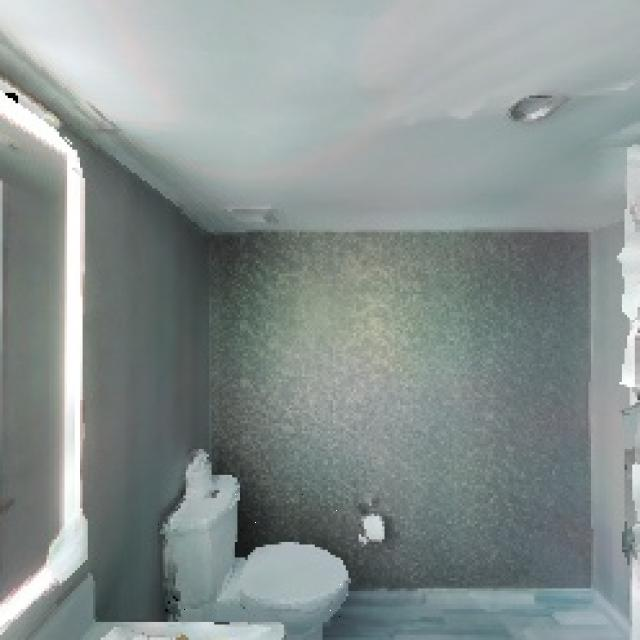toilet: (147, 454, 398, 640)
